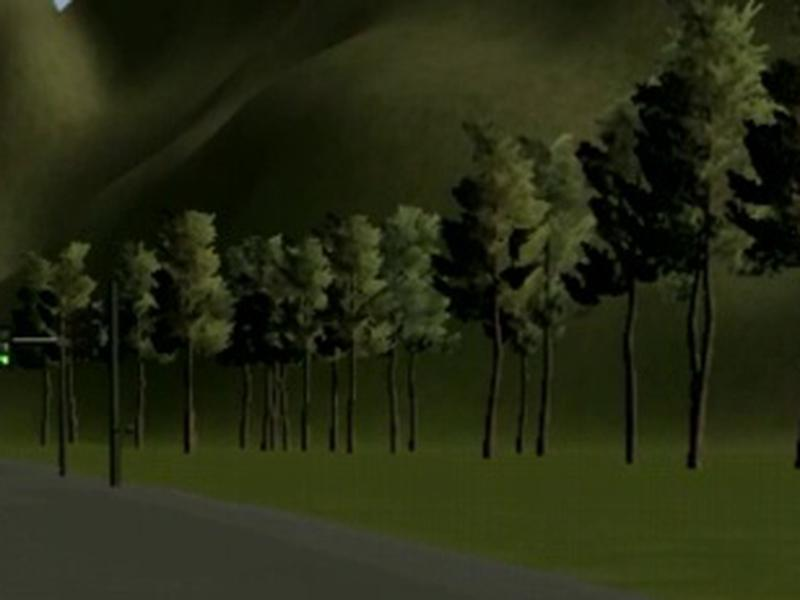Green: (1, 324, 11, 369)
